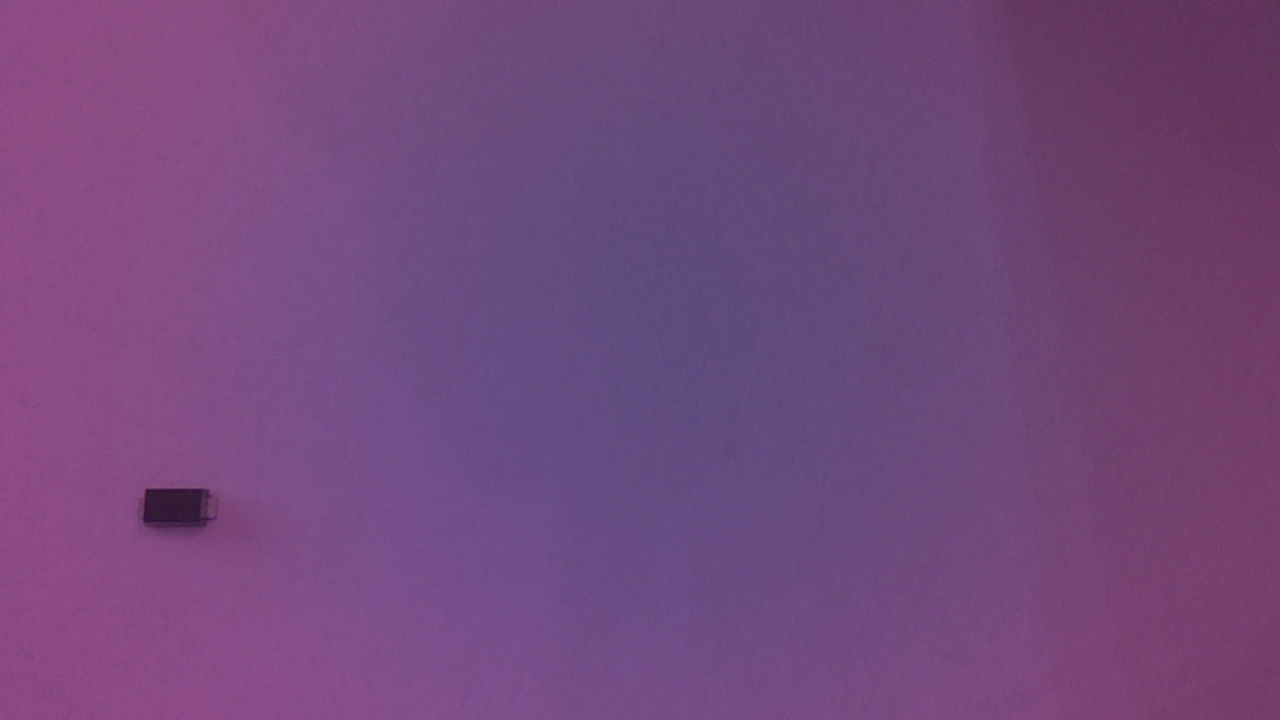Diode: (140, 486, 229, 539)
